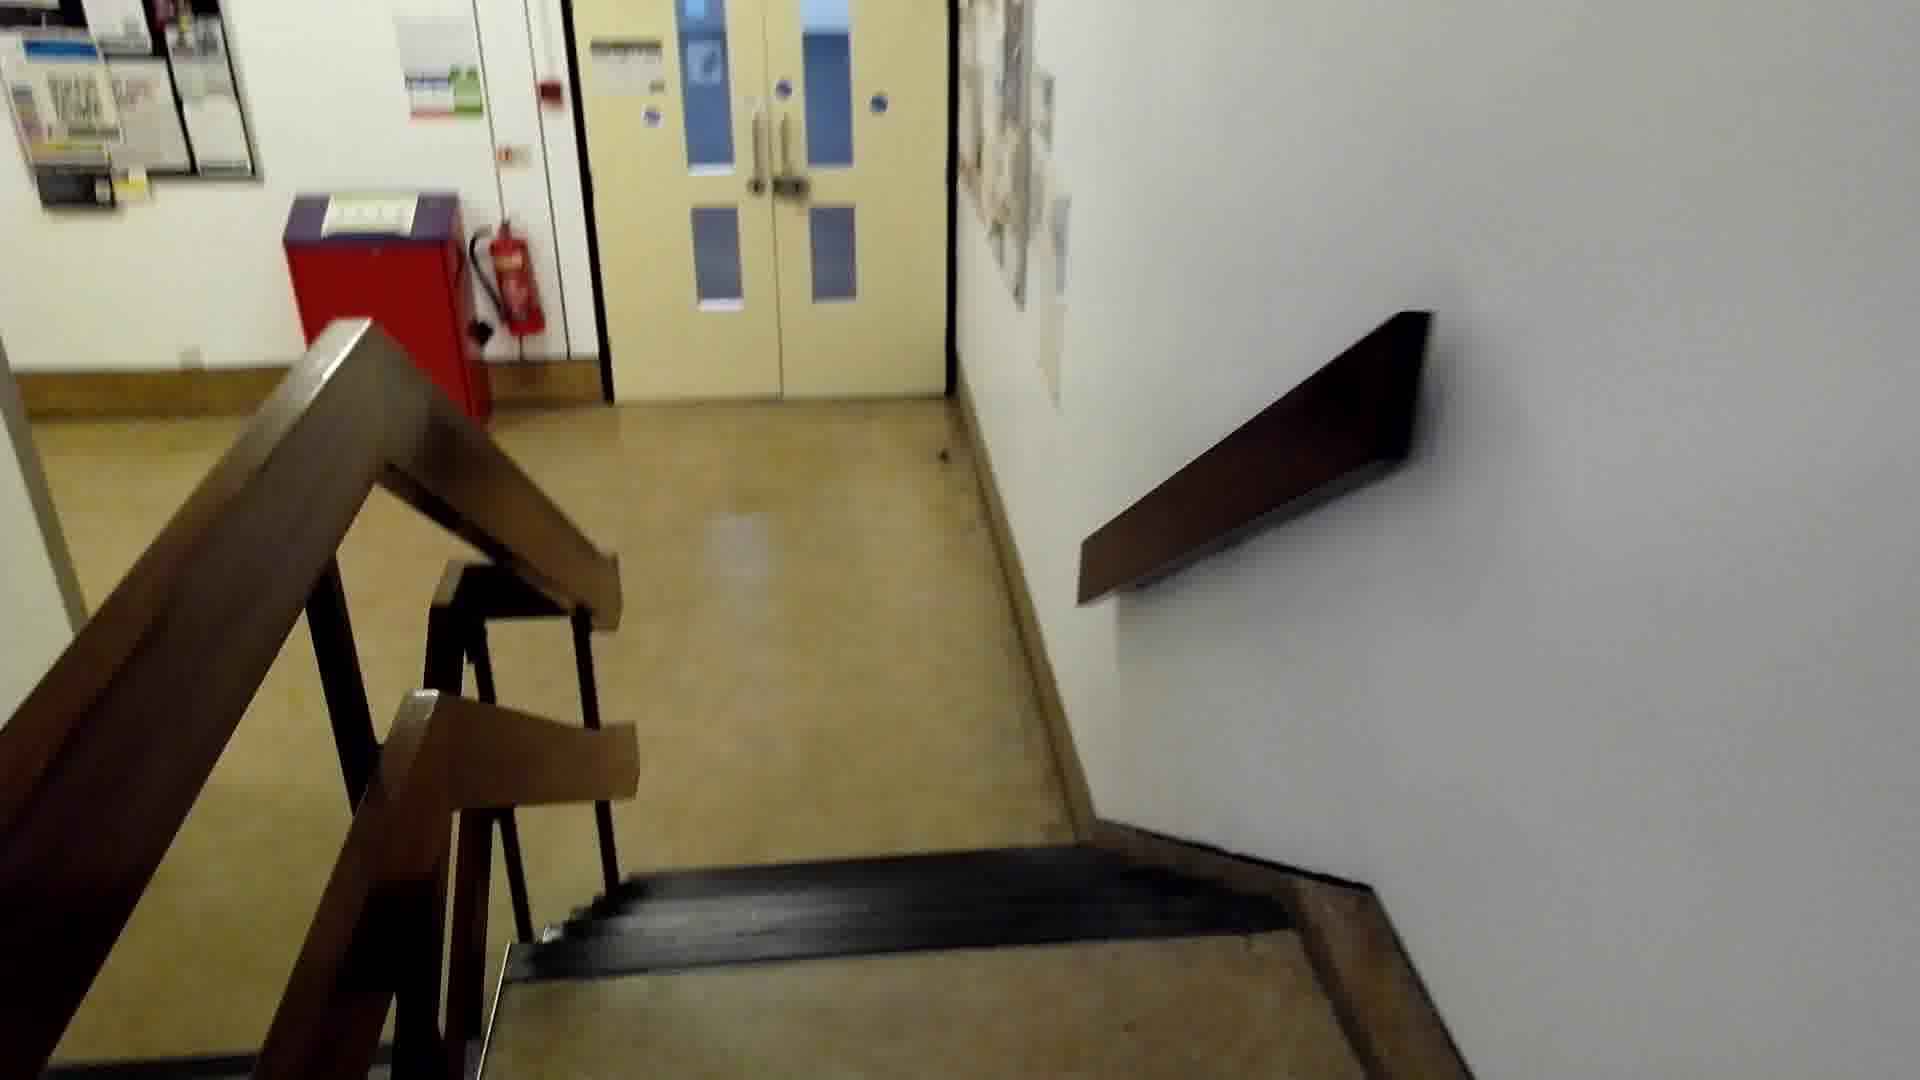Bin: (284, 185, 500, 426)
Door: (564, 1, 971, 410)
Stairs: (377, 487, 1400, 963)
